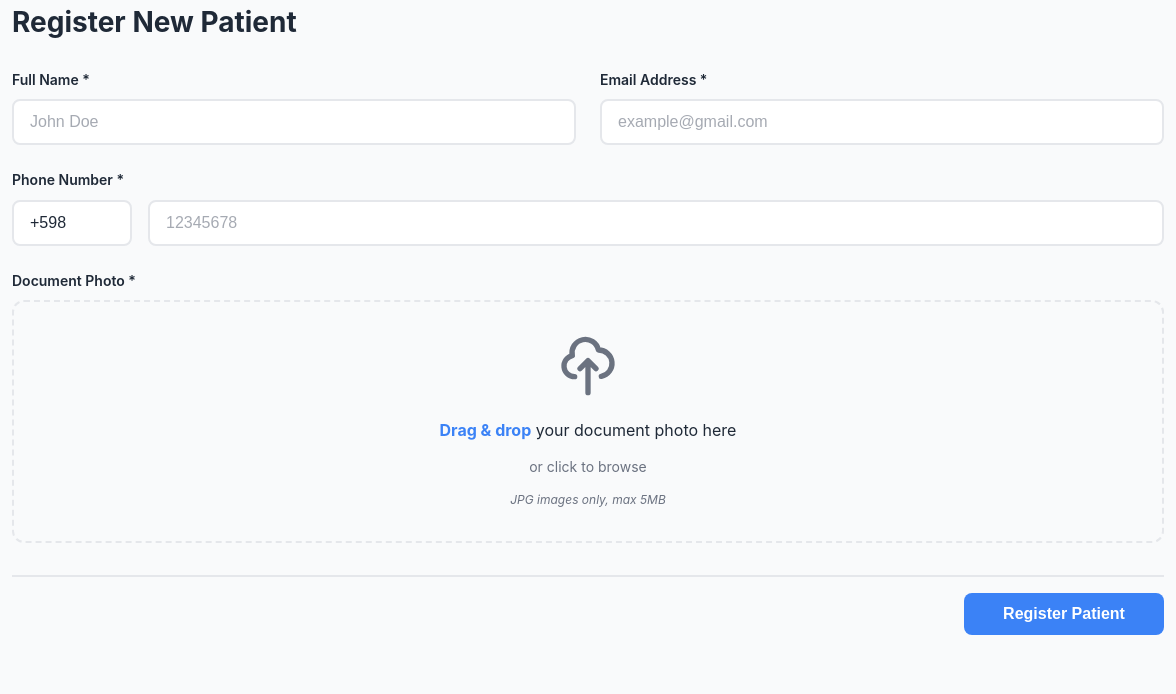
it: PatientForm › validates email with @gmail.com domain
Type "john@yahoo.com" into the field labelled "Email Address *" at (882, 122), box [600,99,1164,145]
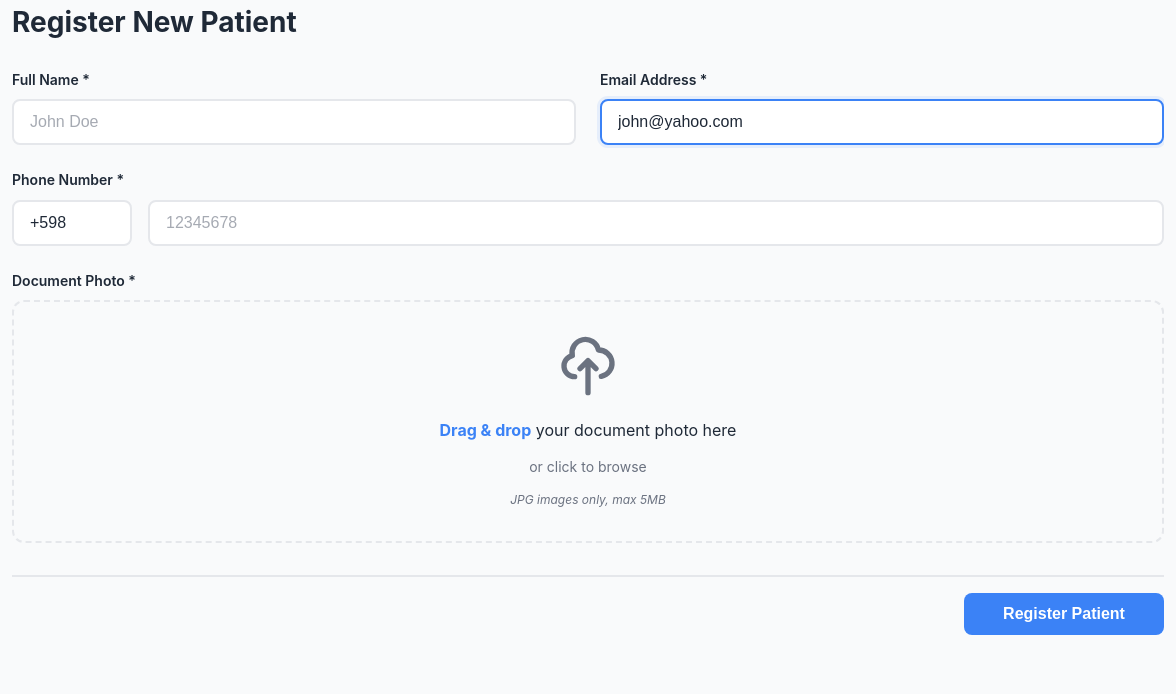
Click the button "Register Patient" at (1064, 614), box [964,593,1164,635]
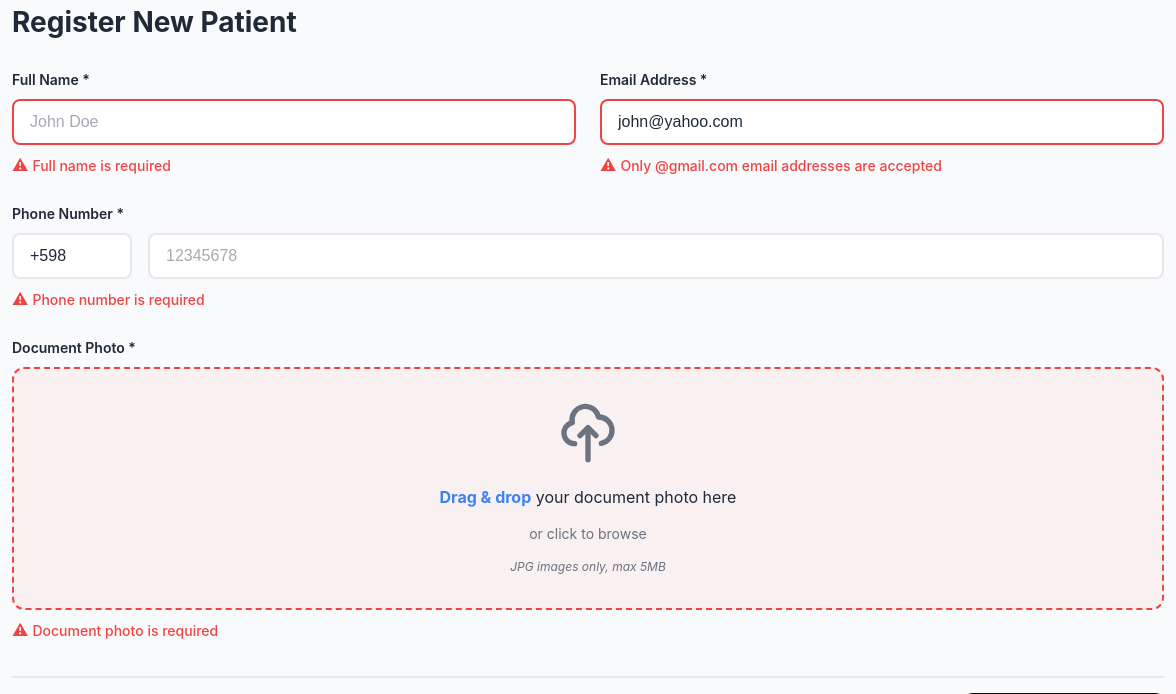
Expected: the text "Only @gmail.com email addresses are accepted" is shown, [620,157,942,174]
